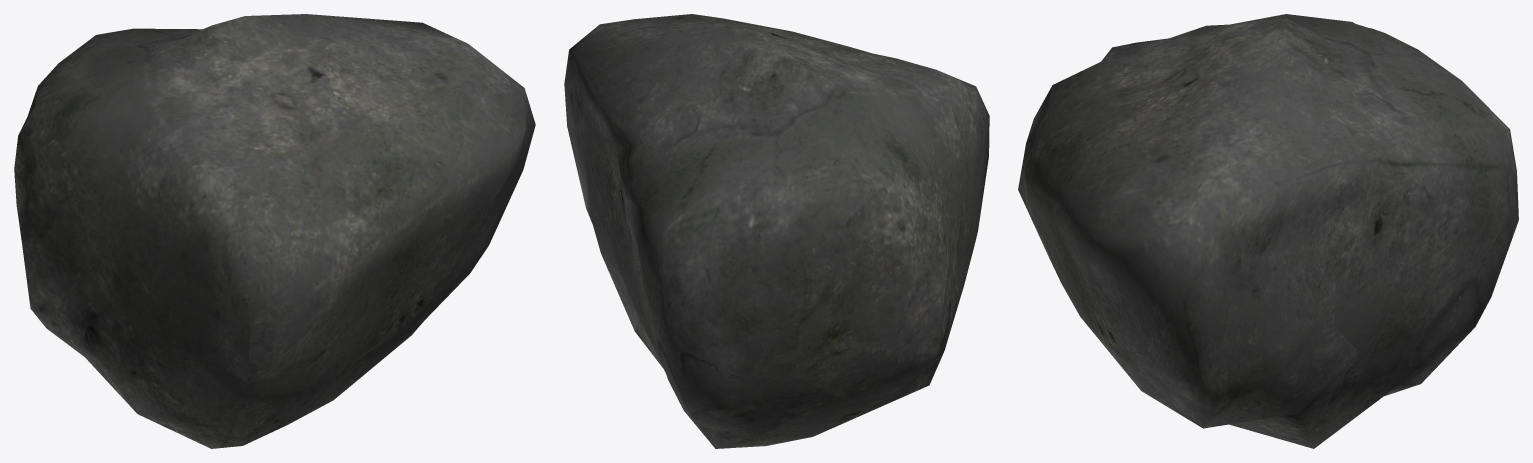
The model's file is rock_forest_square.DAE.
3 renders of one model, left to right at view 1: azimuth 30°, elevation 25°; view 2: azimuth 150°, elevation 25°; view 3: azimuth 270°, elevation 25°, orthographic. The views are drawn at different scales.
Visible parts, largest first — view 1: klippamedium_lowpoly; view 2: klippamedium_lowpoly; view 3: klippamedium_lowpoly.
Part boxes in pixels (x1,y1,x2,y2): klippamedium_lowpoly: (14,14,535,448); klippamedium_lowpoly: (564,14,989,448); klippamedium_lowpoly: (1018,14,1518,448).
Size of the model in its own units: 1.66 by 1.39 by 1.6.
